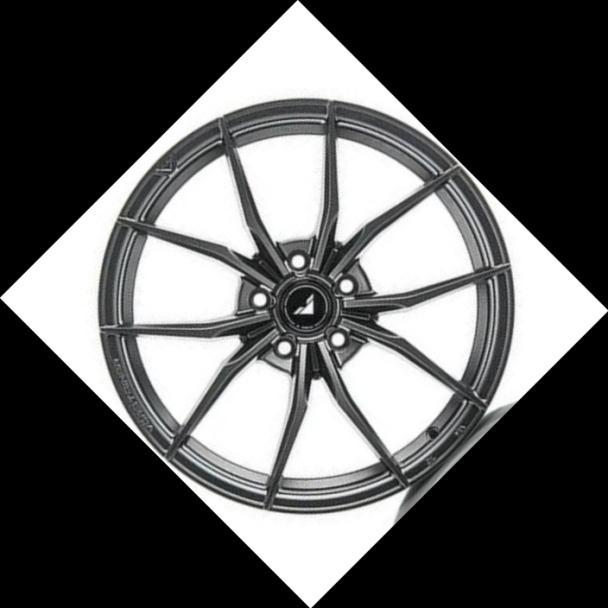hole: (329, 267, 364, 302), (282, 243, 314, 276), (321, 322, 353, 354), (242, 283, 274, 314), (267, 330, 299, 361)
